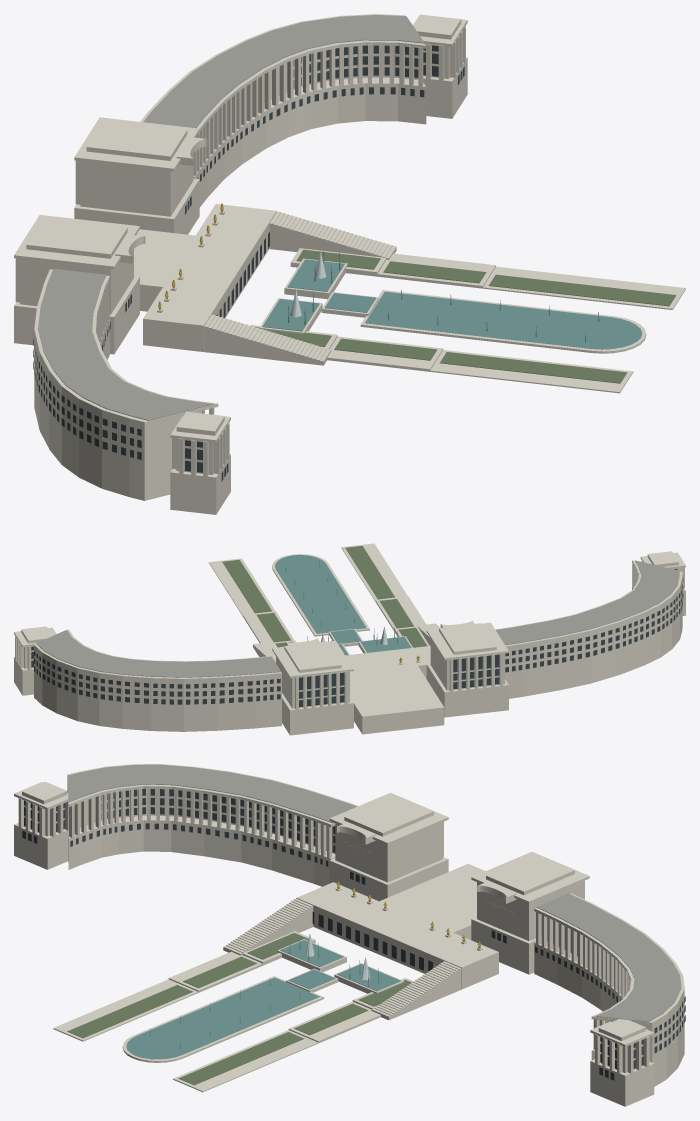
Rendered from palais-de-chaillot-far.glb.
3 views of the same model, one above another, from view 1: azimuth 30°, elevation 25°; view 2: azimuth 150°, elevation 25°; view 3: azimuth 270°, elevation 25° (orthographic). The views are drawn at different scales.
Parts seen in each view (by area): view 1: palais-de-chaillot-0-stone, palais-de-chaillot-0-roof, palais-de-chaillot-0-water, palais-de-chaillot-0-garden, palais-de-chaillot-0-glass; view 2: palais-de-chaillot-0-stone, palais-de-chaillot-0-roof, palais-de-chaillot-0-glass, palais-de-chaillot-0-water, palais-de-chaillot-0-garden; view 3: palais-de-chaillot-0-stone, palais-de-chaillot-0-roof, palais-de-chaillot-0-water, palais-de-chaillot-0-glass, palais-de-chaillot-0-garden.
Boxes of the visible parts, x1,y1,x2,y2 form: palais-de-chaillot-0-stone: (14, 14, 685, 514); palais-de-chaillot-0-roof: (38, 15, 424, 420); palais-de-chaillot-0-water: (262, 251, 642, 349); palais-de-chaillot-0-garden: (255, 249, 676, 383); palais-de-chaillot-0-glass: (33, 45, 464, 481); palais-de-chaillot-0-stone: (14, 543, 685, 735); palais-de-chaillot-0-roof: (36, 560, 679, 677); palais-de-chaillot-0-glass: (31, 569, 683, 707); palais-de-chaillot-0-water: (275, 555, 411, 655); palais-de-chaillot-0-garden: (222, 546, 427, 647); palais-de-chaillot-0-stone: (14, 764, 684, 1106); palais-de-chaillot-0-roof: (67, 764, 681, 1021); palais-de-chaillot-0-water: (126, 936, 400, 1059); palais-de-chaillot-0-glass: (22, 788, 685, 1080); palais-de-chaillot-0-garden: (67, 933, 411, 1085).
Bounding box in the file's own units: 326 × 42 × 333.
